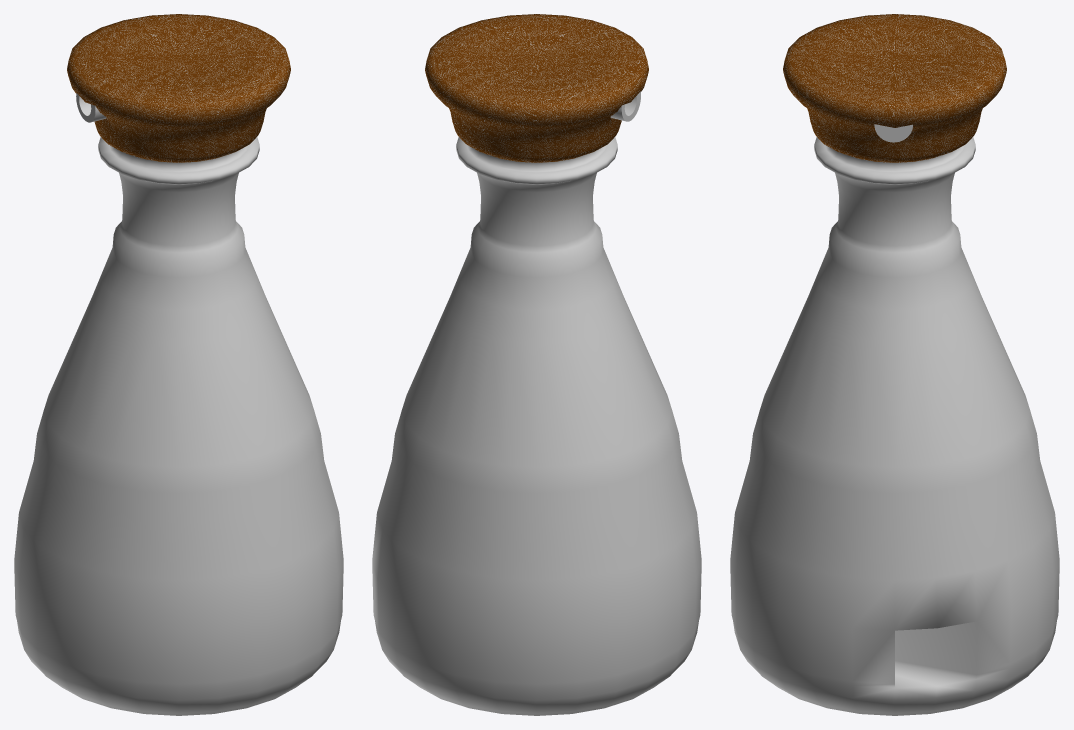
3 renders of one model, left to right at view 1: azimuth 30°, elevation 25°; view 2: azimuth 150°, elevation 25°; view 3: azimuth 270°, elevation 25°, orthographic.
Visible parts, largest first — view 1: mesh1_mesh1-geometry; view 2: mesh1_mesh1-geometry; view 3: mesh1_mesh1-geometry.
Boxes of the visible parts, left/top/right/bottom form: mesh1_mesh1-geometry: left=14, top=14, right=343, bottom=715; mesh1_mesh1-geometry: left=372, top=14, right=701, bottom=715; mesh1_mesh1-geometry: left=730, top=14, right=1059, bottom=715.
Size of the model in its own units: 0.4061 by 0.8186 by 0.4061.
